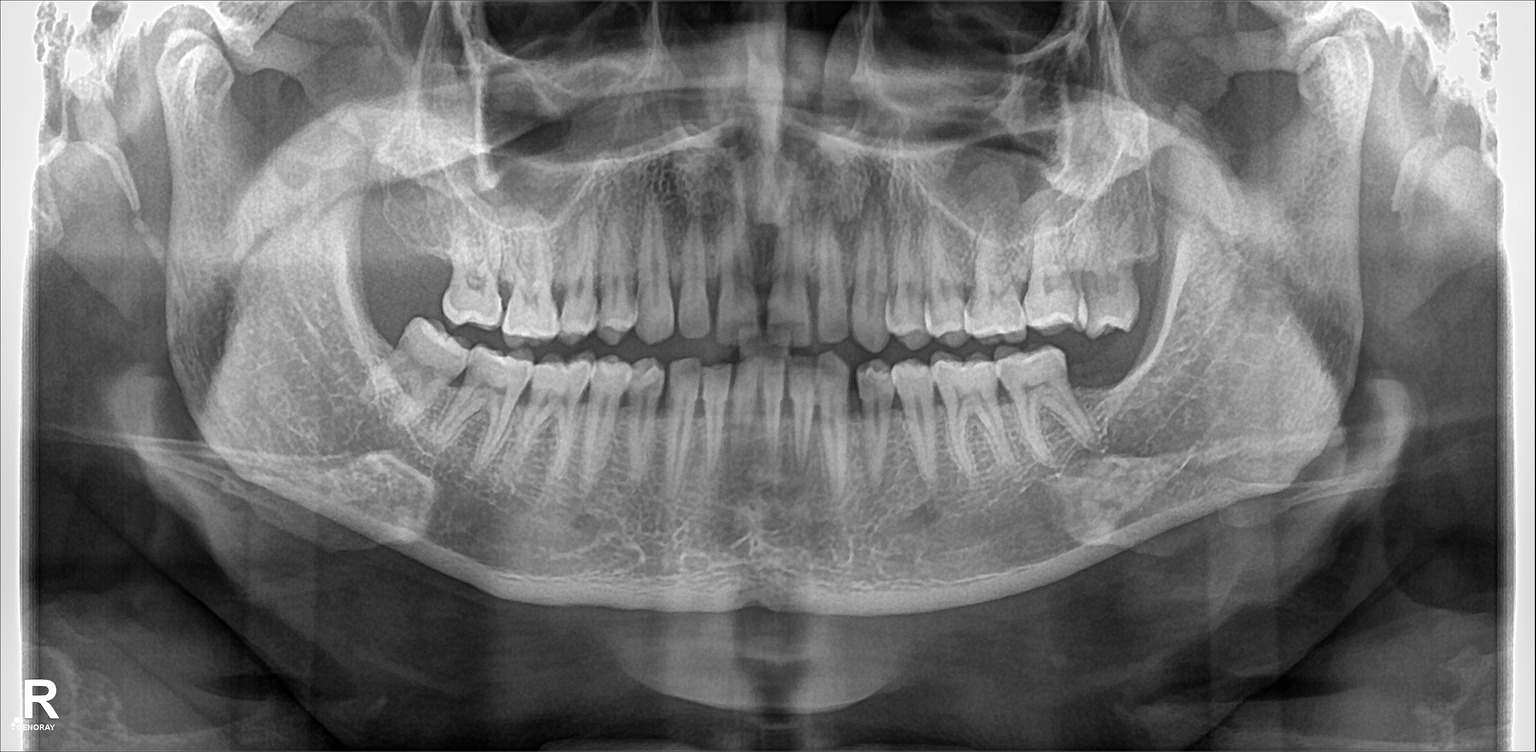Impacted Third Molar: (369, 331, 471, 408)
Missing Tooth: (372, 188, 441, 305), (1073, 348, 1126, 413)
